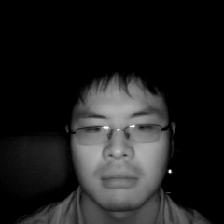normal: (58, 44, 182, 216)
